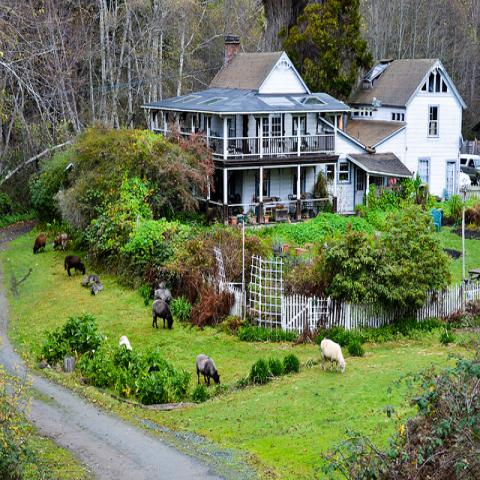car: (460, 154, 480, 186)
truck: (460, 150, 479, 186)
